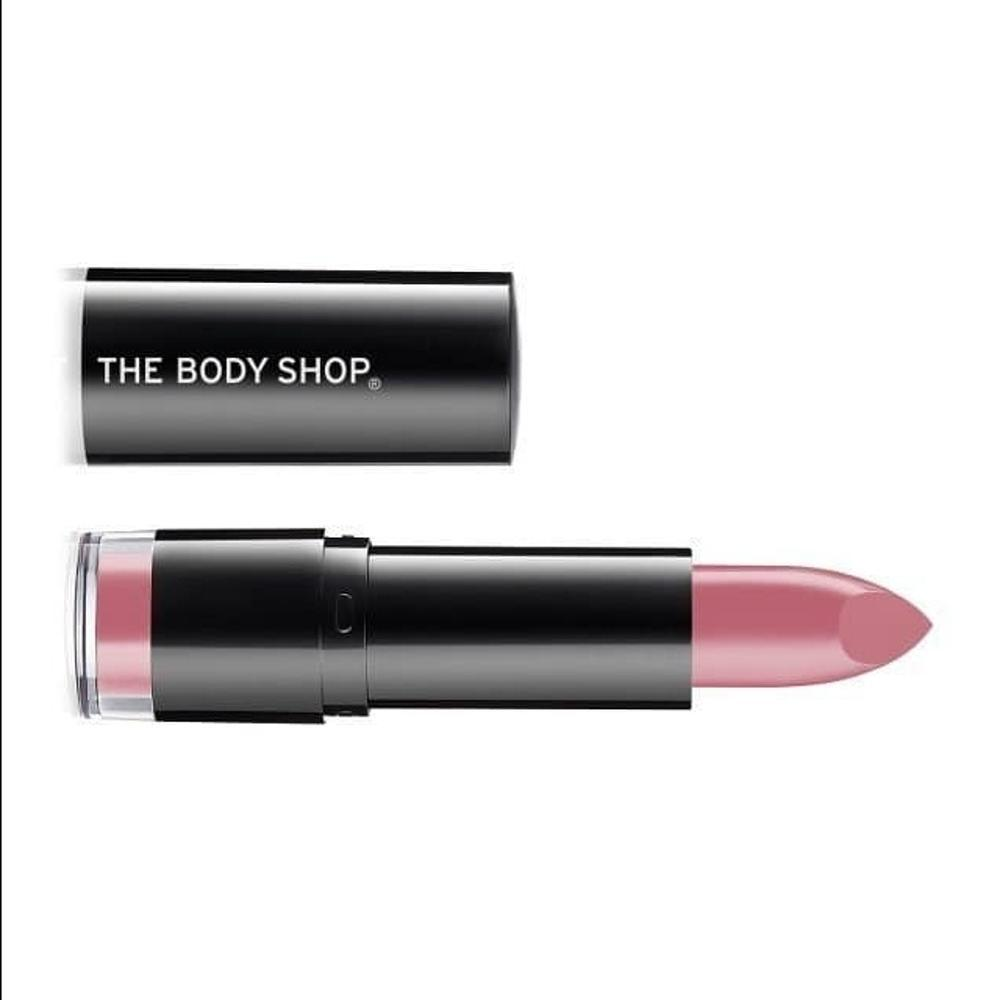lipstick: (68, 514, 940, 735)
